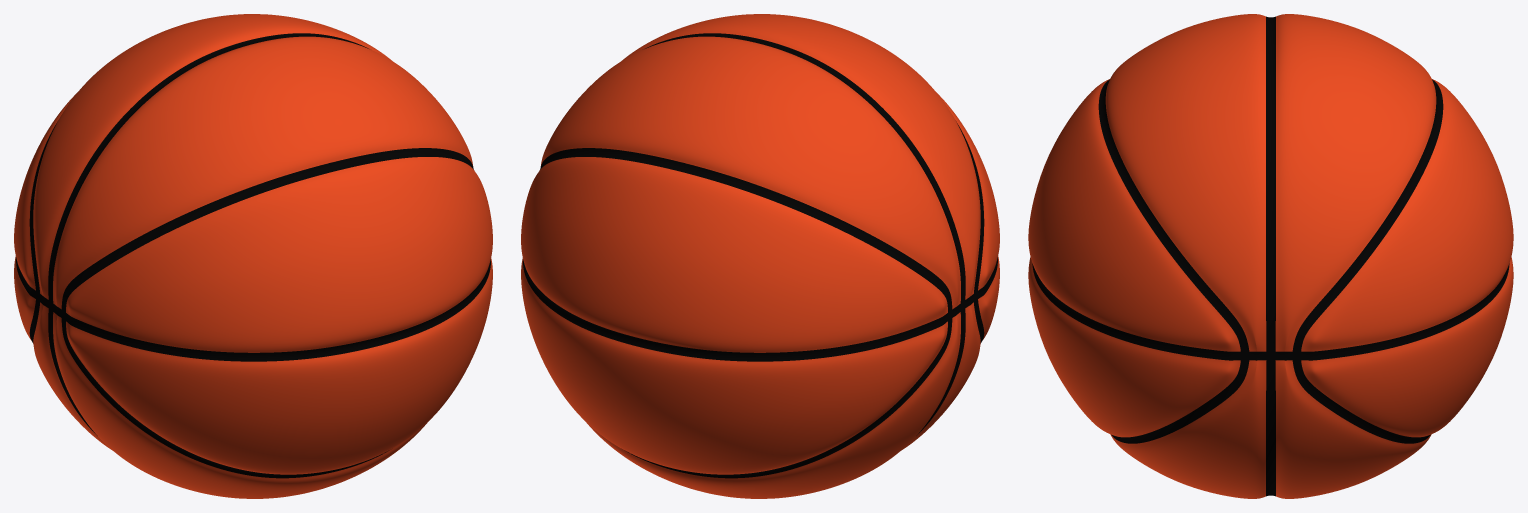
The model's file is basketball.glb.
3 views of the same model, side by side, from view 1: azimuth 30°, elevation 25°; view 2: azimuth 150°, elevation 25°; view 3: azimuth 270°, elevation 25° (orthographic).
Parts seen in each view (by area): view 1: Sphere; view 2: Sphere; view 3: Sphere.
Boxes of the visible parts, x1,y1,x2,y2 form: Sphere: (14, 14, 492, 498); Sphere: (521, 14, 999, 498); Sphere: (1028, 14, 1513, 498).
Size of the model in its own units: 1.8 by 1.83 by 1.83.
